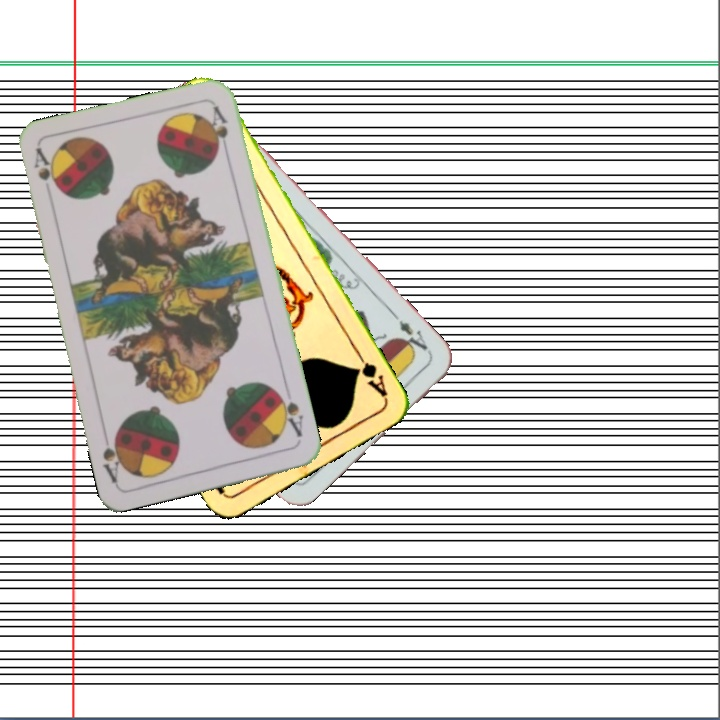EA: (394, 316, 435, 358)
GA: (350, 347, 391, 400)
SA: (272, 386, 306, 440), (29, 144, 61, 193)
